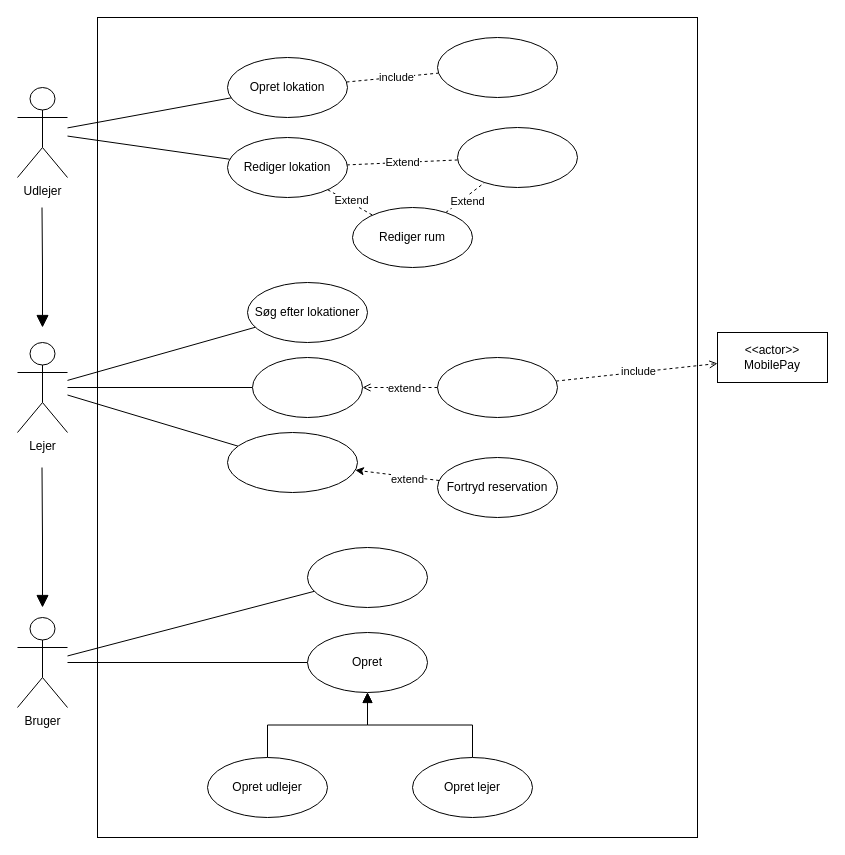
The diagram is 845 pixels wide and 855 high, and some of its shapes have lost their labels. Here are the shapes that lost their labels. From the top down, the centre of each, then its label:
At (x=497, y=67): "Opret rum".
At (x=517, y=157): "Upload billede".
At (x=307, y=387): "Se på lokation".
At (x=497, y=387): "Lav reservation".
At (x=292, y=462): "Rediger reservationer".
At (x=367, y=577): "Log ind".
